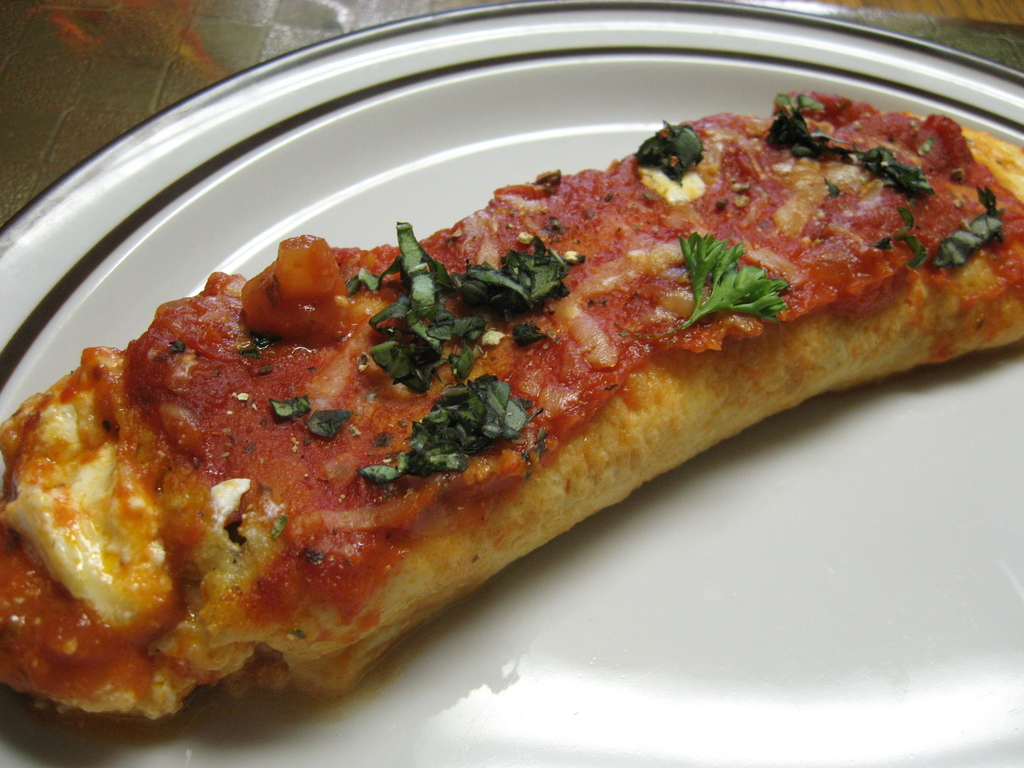Pizza: (11, 85, 974, 718)
